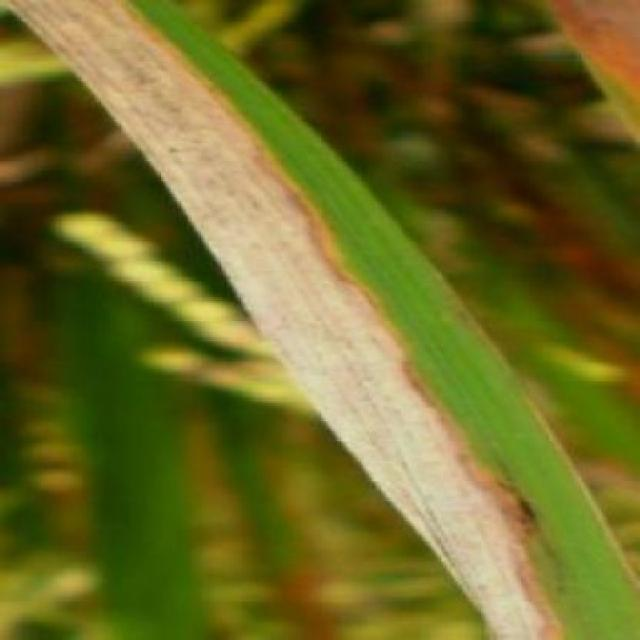Brown_Spot: (324, 235, 599, 638)
